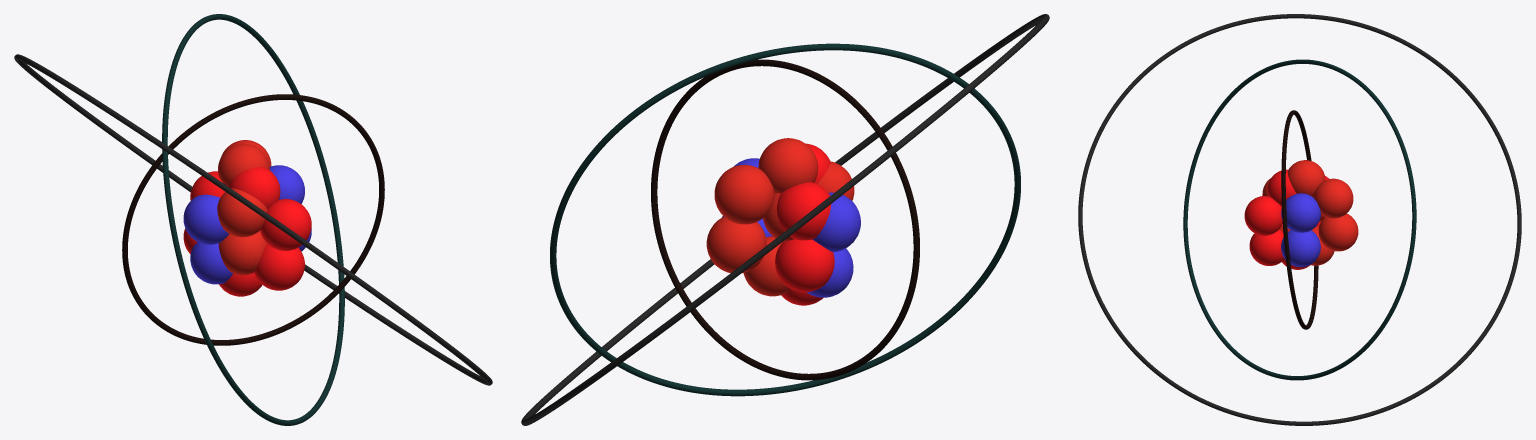
File: Atomo.fbx
The picture shows the model from 3 angles, left to right: view 1: azimuth 30°, elevation 25°; view 2: azimuth 150°, elevation 25°; view 3: azimuth 270°, elevation 25°; orthographic projection. The views are drawn at different scales.
Visible parts, largest first — view 1: Sphere.002, BézierCircle, BézierCircle.001, BézierCircle.002, Sphere.001, Sphere; view 2: Sphere.001, BézierCircle.001, BézierCircle, BézierCircle.002, Sphere.002, Sphere; view 3: BézierCircle, BézierCircle.001, Sphere.001, Sphere.002, Sphere, BézierCircle.002.
Boxes of the visible parts, x1,y1,x2,y2 form: Sphere.002: (183, 167, 311, 296); BézierCircle: (14, 54, 492, 385); BézierCircle.001: (162, 14, 344, 425); BézierCircle.002: (122, 94, 384, 345); Sphere.001: (217, 140, 271, 275); Sphere: (183, 165, 311, 284); Sphere.001: (706, 138, 854, 296); BézierCircle.001: (550, 43, 1020, 396); BézierCircle: (521, 14, 1049, 425); BézierCircle.002: (651, 59, 919, 380); Sphere.002: (775, 143, 834, 305); Sphere: (722, 158, 860, 297); BézierCircle: (1078, 14, 1521, 425); BézierCircle.001: (1183, 59, 1416, 380); Sphere.001: (1262, 160, 1358, 265); Sphere.002: (1244, 169, 1329, 269); Sphere: (1281, 193, 1320, 267); BézierCircle.002: (1281, 110, 1318, 329).
Bounding box in the file's own units: 148 × 138 × 202.
